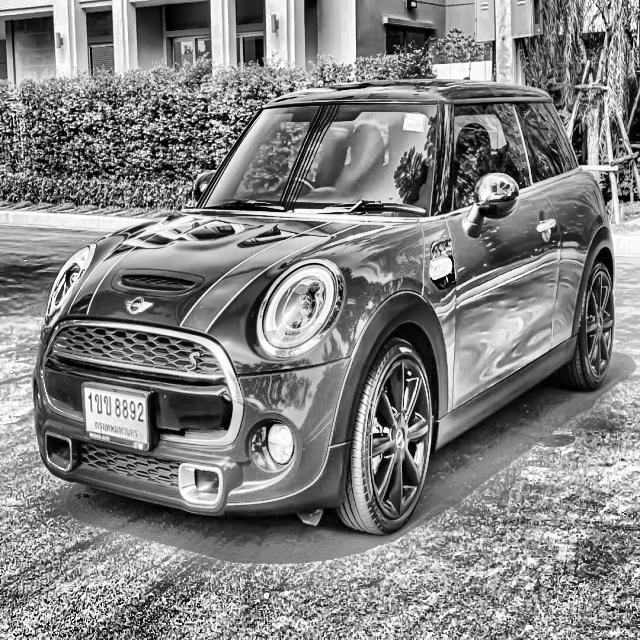license-plate: (80, 376, 154, 456)
